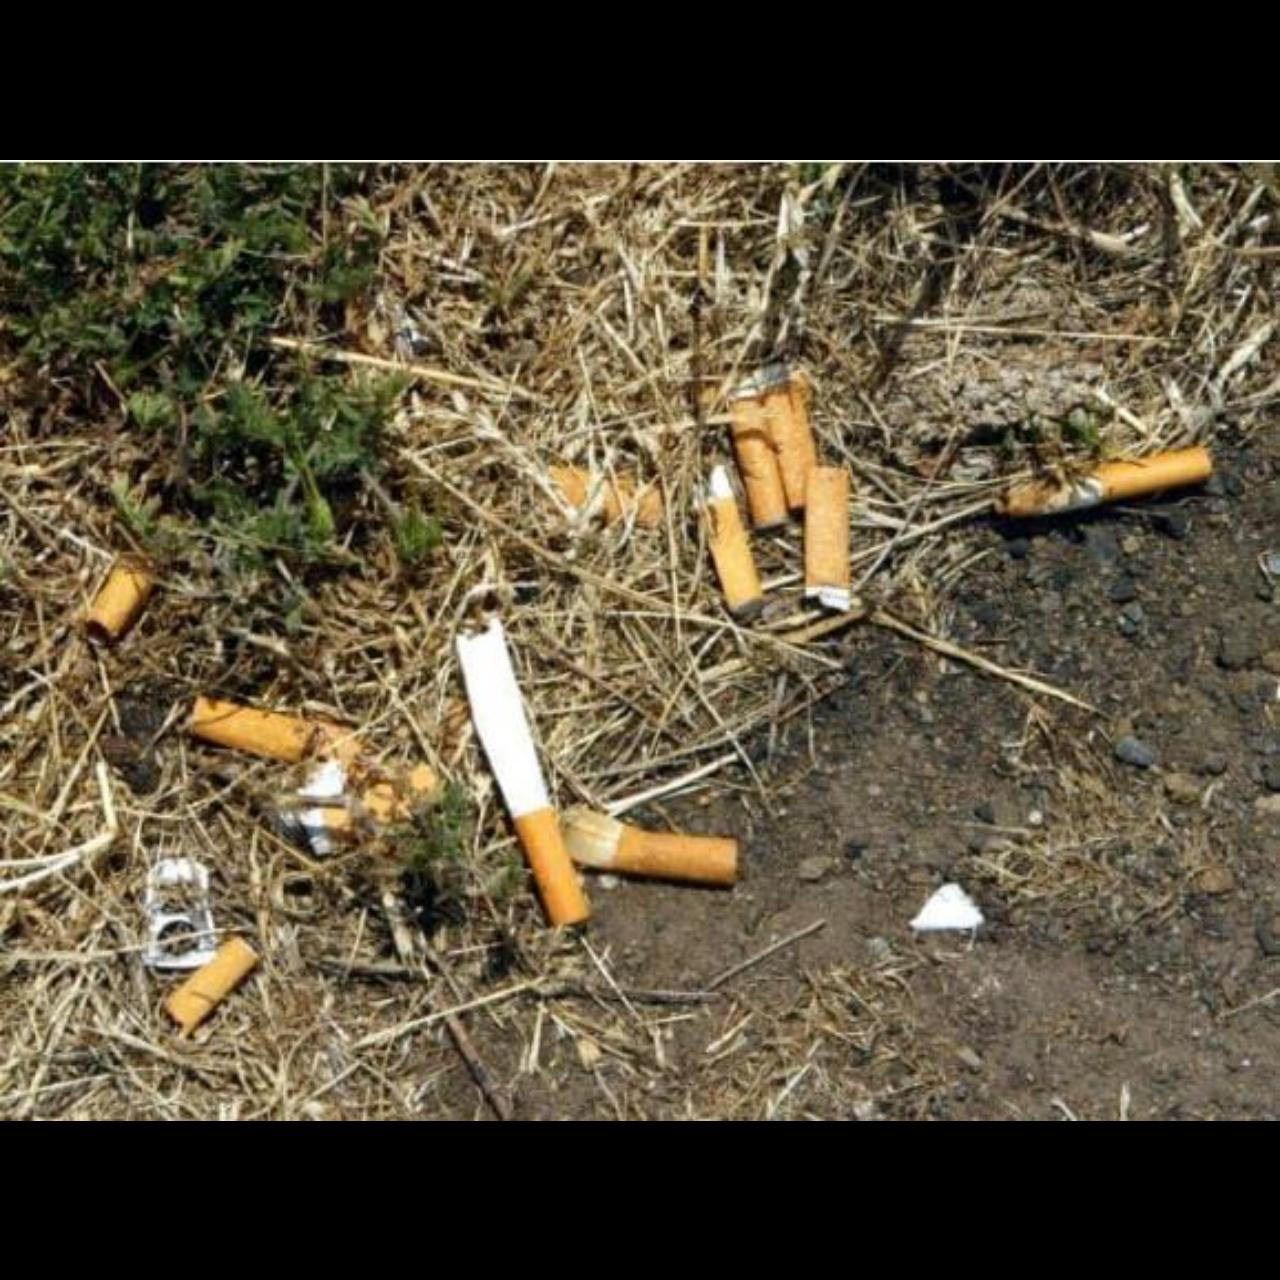cigarettes_butts: (456, 617, 591, 925), (1006, 447, 1211, 516), (560, 805, 740, 883), (727, 369, 789, 526), (166, 937, 261, 1036), (755, 361, 817, 504), (192, 695, 316, 763), (710, 464, 762, 608), (547, 465, 665, 529), (804, 467, 851, 613), (87, 556, 157, 640)
